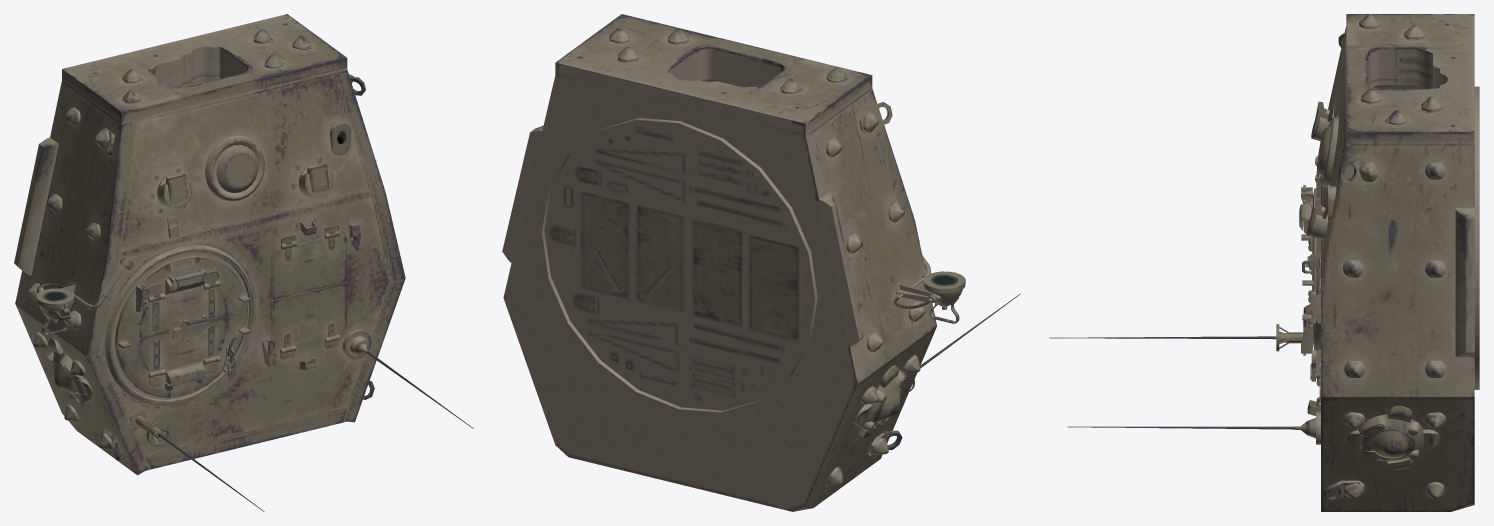
File: Turret_02.glb
The picture shows the model from 3 angles, left to right: view 1: azimuth 30°, elevation 25°; view 2: azimuth 150°, elevation 25°; view 3: azimuth 270°, elevation 25°; orthographic projection. The views are drawn at different scales.
Parts seen in each view (by area): view 1: set_0_group_0; view 2: set_0_group_0; view 3: set_0_group_0.
Part boxes in pixels (x1,y1,x2,y2): set_0_group_0: [14, 14, 473, 511]; set_0_group_0: [502, 14, 1020, 511]; set_0_group_0: [1049, 14, 1479, 511].
Size of the model in its own units: 2.14 by 2.13 by 2.07.
1 material, 1 textured.
